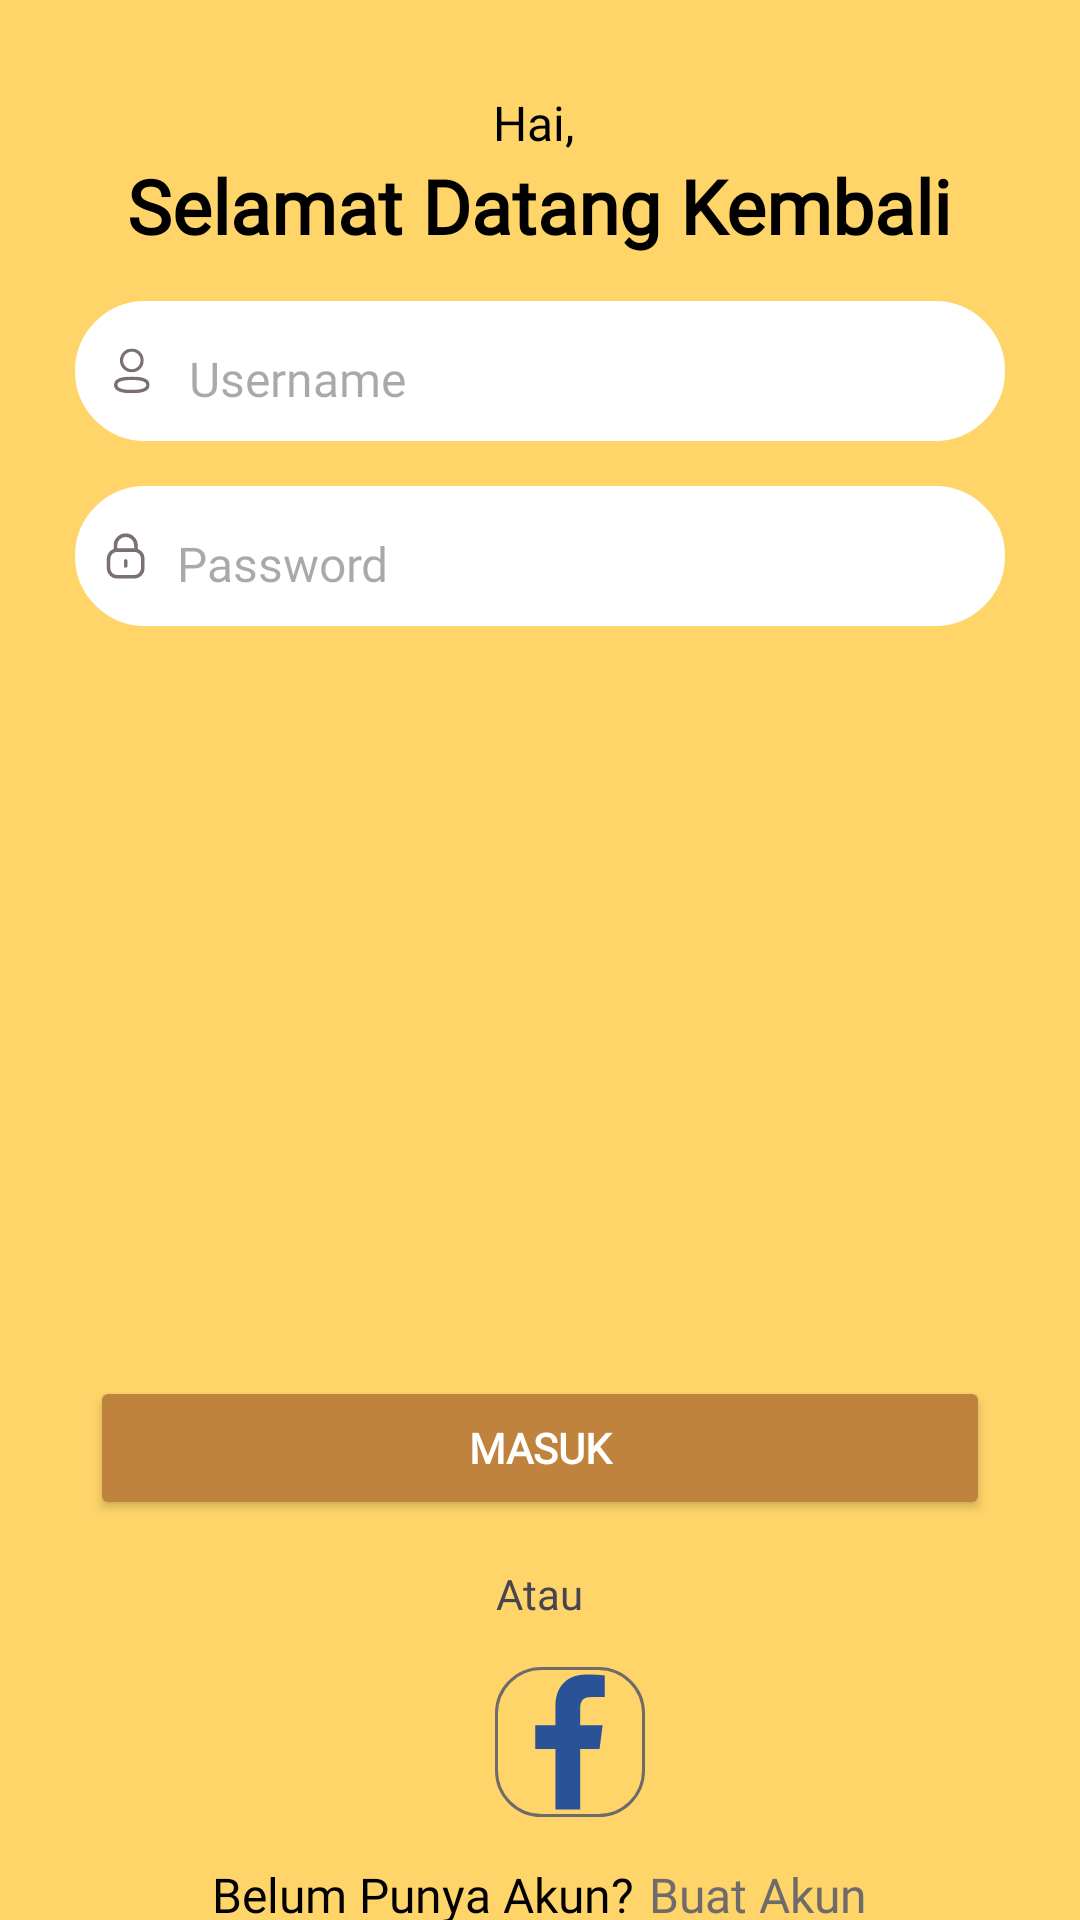

Where icons sit on this 1080 x 1920 app screen, as (x1, y1, x2, y2):
lock: (106, 533, 145, 579)
profile: (114, 348, 150, 393)
